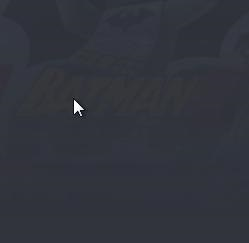cursor: (72, 97, 84, 117)
